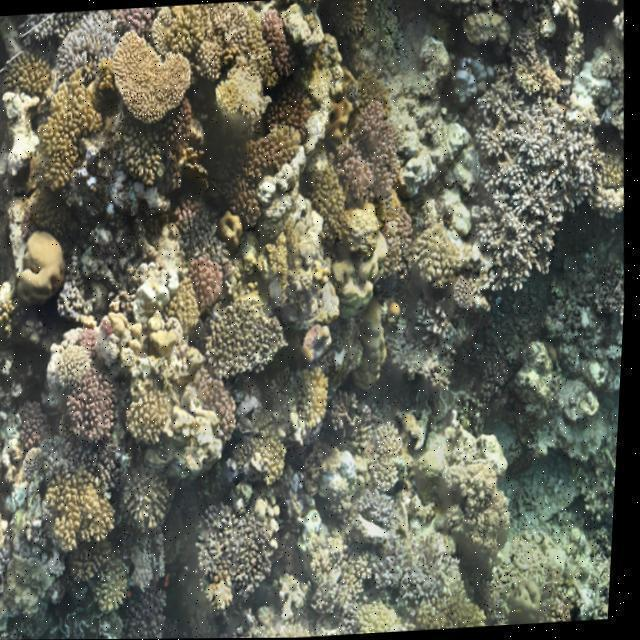Bleached Coral: (472, 99, 619, 279), (367, 544, 462, 618), (561, 39, 628, 132), (16, 435, 111, 489), (133, 261, 194, 338), (49, 11, 121, 76), (128, 529, 184, 598), (328, 435, 378, 501), (446, 52, 503, 107), (356, 486, 406, 526), (239, 390, 268, 437), (0, 550, 18, 609)
Healthy Coral: (120, 36, 226, 156), (338, 90, 417, 211), (45, 87, 103, 195), (213, 304, 288, 372), (261, 117, 318, 186), (119, 383, 170, 438)
